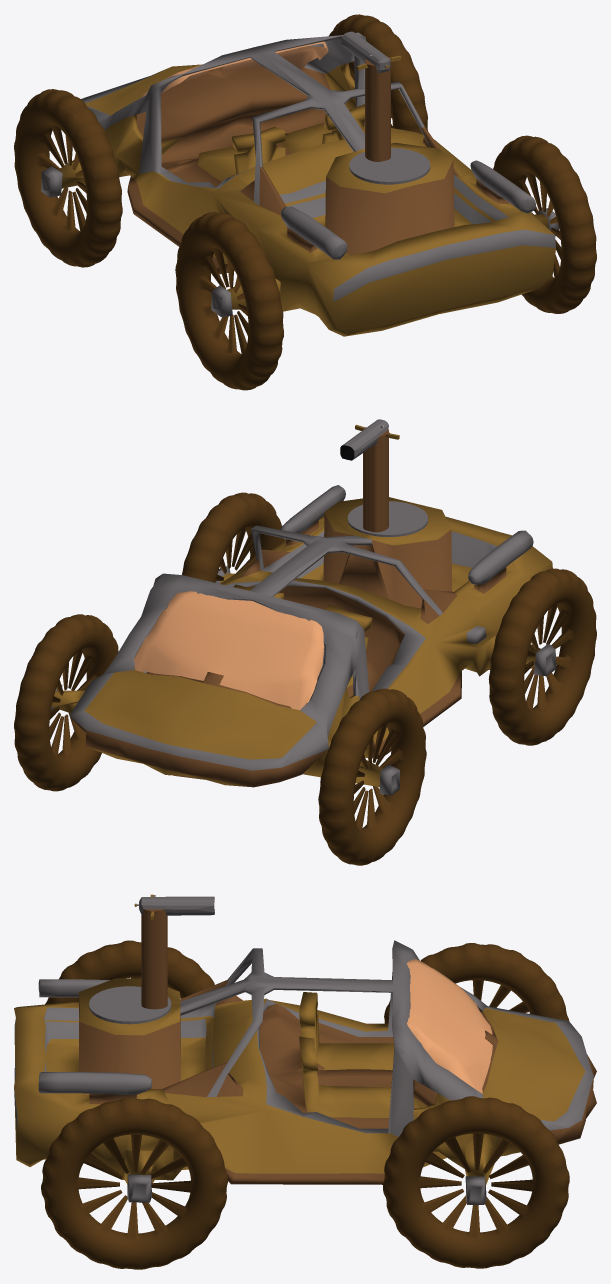
File: vehicle.fbx
The picture shows the model from 3 angles, top to bottom: view 1: azimuth 30°, elevation 25°; view 2: azimuth 150°, elevation 25°; view 3: azimuth 270°, elevation 25°; orthographic projection. The views are drawn at different scales.
Visible parts, largest first — view 1: Vehicle base, Back Left Tire, Front Left Tire, Back Right Tire, Cannon, Front Right Tire, Windshield; view 2: Vehicle base, Windshield, Back Left Tire, Front Left Tire, Front Right Tire, Back Right Tire, Cannon; view 3: Vehicle base, Front Right Tire, Back Right Tire, Windshield, Cannon, Front Left Tire, Back Left Tire.
Part boxes in pixels (left/top/right/bottom): Vehicle base: left=41, top=32, right=558, bottom=336; Back Left Tire: left=175, top=212, right=283, bottom=390; Front Left Tire: left=14, top=89, right=122, bottom=267; Back Right Tire: left=493, top=135, right=596, bottom=313; Cannon: left=341, top=31, right=430, bottom=184; Front Right Tire: left=329, top=14, right=427, bottom=134; Windshield: left=141, top=41, right=328, bottom=97; Vehicle base: left=51, top=485, right=556, bottom=795; Windshield: left=134, top=591, right=324, bottom=710; Back Left Tire: left=488, top=568, right=596, bottom=745; Front Left Tire: left=318, top=688, right=426, bottom=865; Front Right Tire: left=14, top=614, right=118, bottom=791; Back Right Tire: left=182, top=492, right=284, bottom=582; Cannon: left=340, top=419, right=428, bottom=536; Vehicle base: left=14, top=940, right=596, bottom=1204; Front Right Tire: left=383, top=1096, right=569, bottom=1268; Back Right Tire: left=41, top=1097, right=227, bottom=1269; Windshield: left=406, top=959, right=492, bottom=1093; Cannon: left=89, top=894, right=214, bottom=1024; Front Left Tire: left=384, top=943, right=569, bottom=1023; Back Left Tire: left=45, top=940, right=214, bottom=1004.
Size of what is drawn, in the model's own units: 562 by 434 by 784.
